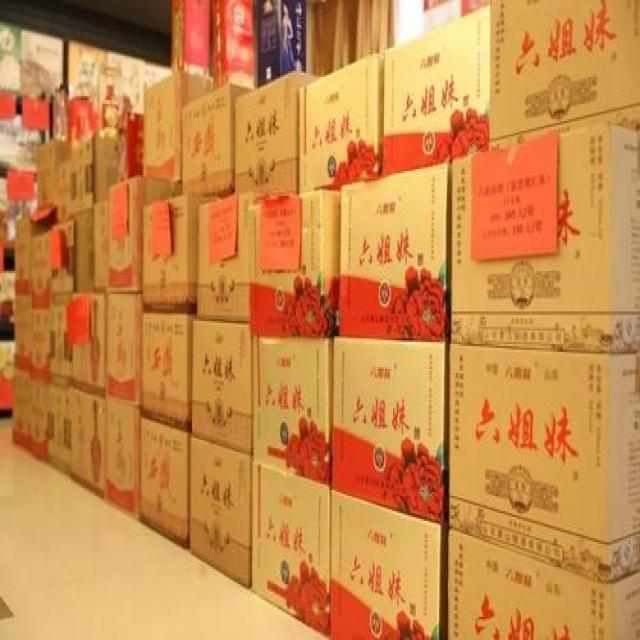box: (449, 346, 639, 582), (452, 121, 639, 352), (333, 338, 448, 519), (448, 532, 640, 640), (490, 0, 640, 136), (339, 163, 451, 338), (384, 8, 490, 173), (332, 490, 447, 638), (248, 190, 340, 336), (252, 465, 330, 634), (253, 338, 332, 488), (300, 54, 384, 192), (236, 73, 323, 192), (191, 436, 248, 588), (143, 196, 215, 313), (108, 179, 179, 292), (143, 73, 215, 181), (182, 85, 253, 194), (192, 323, 251, 454), (198, 194, 251, 321), (142, 313, 193, 431), (141, 419, 188, 544), (104, 294, 142, 406), (106, 402, 141, 517), (70, 388, 105, 498), (68, 294, 105, 394), (50, 219, 92, 292), (14, 219, 49, 294), (37, 140, 69, 221), (67, 135, 95, 217), (47, 384, 69, 479), (26, 379, 47, 461), (47, 308, 69, 386), (10, 367, 29, 448), (14, 294, 31, 375), (32, 233, 50, 308), (93, 200, 108, 288), (32, 308, 50, 381)
